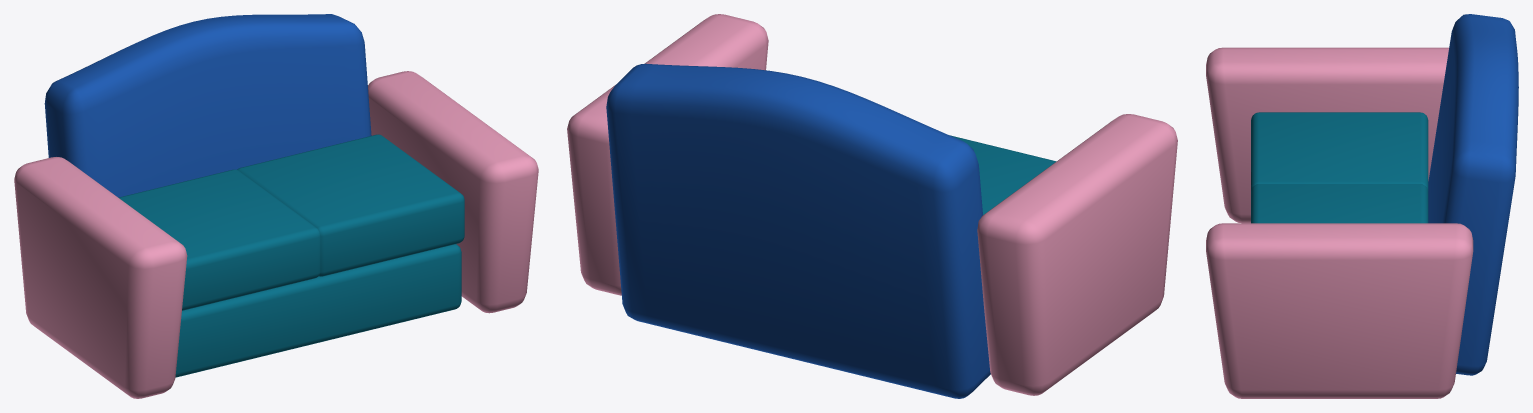
The model's file is mycouch.obj.
The picture shows the model from 3 angles, left to right: view 1: azimuth 30°, elevation 25°; view 2: azimuth 150°, elevation 25°; view 3: azimuth 270°, elevation 25°; orthographic projection. The views are drawn at different scales.
Parts seen in each view (by area): view 1: ChamferBox002, ChamferBox003, ChamferBox004, ChamferBox006, ChamferBox001, ChamferBox005; view 2: ChamferBox002, ChamferBox003, ChamferBox004, ChamferBox005; view 3: ChamferBox004, ChamferBox002, ChamferBox003, ChamferBox005, ChamferBox006.
Part boxes in pixels (x1=…): ChamferBox002: x1=44, y1=14, x2=371, y2=197; ChamferBox003: x1=14, y1=157, x2=187, y2=398; ChamferBox004: x1=368, y1=71, x2=538, y2=313; ChamferBox006: x1=237, y1=134, x2=464, y2=276; ChamferBox001: x1=175, y1=244, x2=461, y2=377; ChamferBox005: x1=118, y1=169, x2=320, y2=310; ChamferBox002: x1=606, y1=63, x2=990, y2=398; ChamferBox003: x1=977, y1=114, x2=1177, y2=395; ChamferBox004: x1=567, y1=14, x2=768, y2=295; ChamferBox005: x1=949, y1=135, x2=1056, y2=214; ChamferBox004: x1=1206, y1=223, x2=1473, y2=398; ChamferBox002: x1=1428, y1=14, x2=1518, y2=375; ChamferBox003: x1=1206, y1=47, x2=1448, y2=223; ChamferBox005: x1=1251, y1=112, x2=1428, y2=190; ChamferBox006: x1=1251, y1=184, x2=1428, y2=223.
Bounding box in the file's own units: 59.79 × 33.97 × 38.75.
